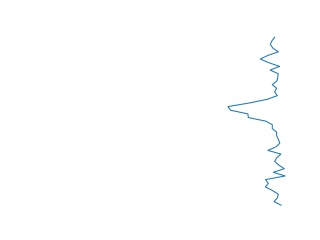interdistributaryEstuary: (222, 37, 290, 209)
